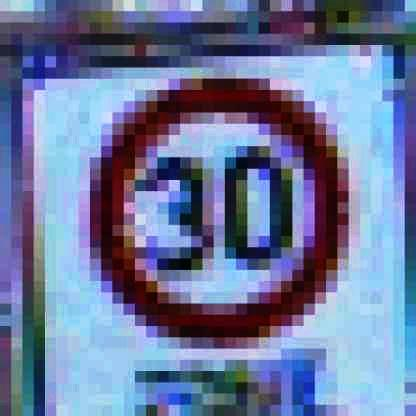Speed Limit -30-: (86, 74, 357, 354)
